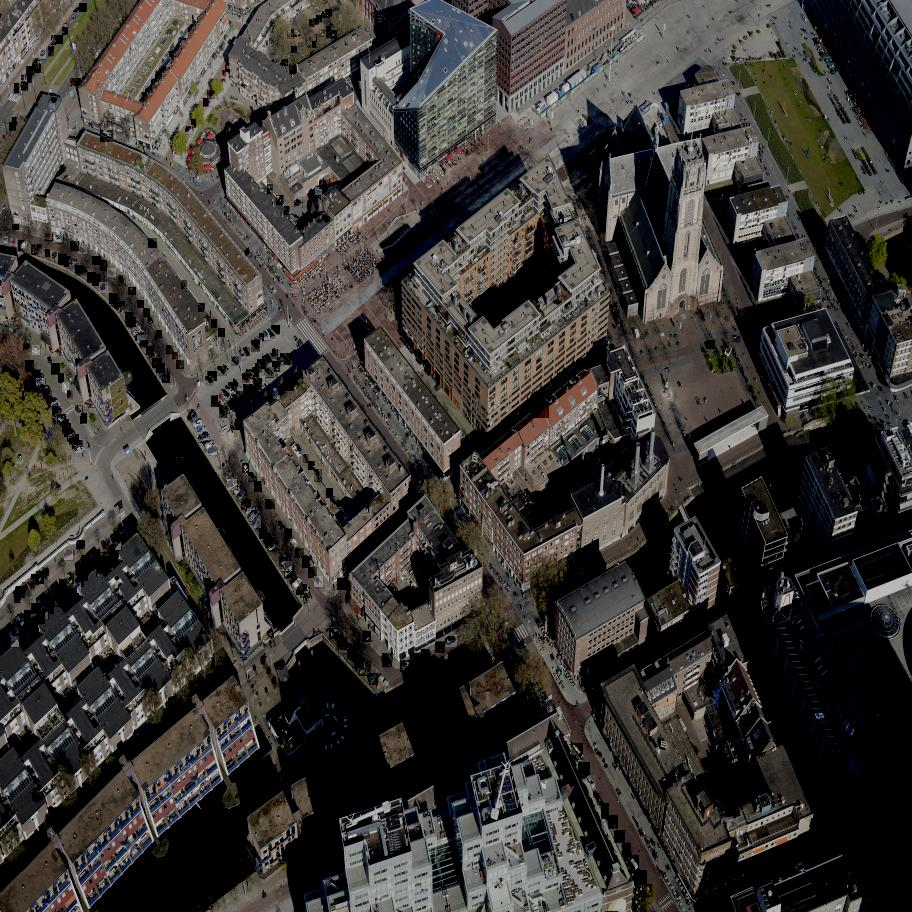large-vehicle: (530, 392, 551, 418)
small-vehicle: (569, 743, 584, 761), (318, 175, 336, 190), (809, 818, 821, 837), (358, 661, 373, 676), (628, 856, 642, 872), (714, 798, 728, 813), (57, 592, 71, 606), (336, 637, 350, 651), (634, 871, 648, 885), (99, 130, 114, 143), (578, 763, 591, 778), (708, 783, 721, 798), (22, 624, 36, 637), (410, 654, 424, 667), (586, 776, 598, 791), (299, 587, 312, 600), (337, 578, 350, 591), (235, 489, 248, 502), (251, 516, 264, 529), (292, 577, 304, 591), (346, 648, 360, 660), (445, 635, 459, 647), (381, 654, 393, 668), (822, 674, 836, 686), (834, 702, 848, 714), (720, 771, 729, 789), (601, 803, 611, 819), (27, 620, 39, 633), (4, 626, 16, 639), (17, 614, 29, 627), (354, 658, 367, 670), (284, 566, 296, 579), (128, 319, 140, 332), (186, 409, 198, 422), (608, 816, 619, 830), (197, 433, 211, 444), (81, 556, 93, 568), (280, 354, 292, 366), (241, 499, 253, 511), (281, 561, 293, 573), (401, 660, 413, 672), (614, 831, 626, 843), (435, 641, 447, 653), (770, 871, 782, 883), (203, 440, 215, 452), (220, 389, 232, 401), (158, 368, 170, 380), (18, 629, 29, 642), (329, 498, 342, 509), (593, 792, 604, 805), (642, 884, 653, 897), (622, 844, 632, 858), (205, 446, 219, 456), (52, 406, 63, 418), (94, 562, 105, 574), (75, 445, 87, 456), (69, 435, 81, 446), (243, 384, 254, 396), (296, 584, 308, 595), (546, 484, 558, 495), (343, 643, 354, 655), (453, 488, 465, 499), (265, 499, 276, 511), (362, 632, 373, 644), (109, 293, 120, 305), (189, 415, 200, 427), (210, 396, 222, 407), (253, 378, 263, 391), (227, 480, 240, 490), (329, 629, 342, 639), (369, 673, 379, 686), (892, 723, 905, 733), (248, 512, 261, 522), (262, 535, 275, 545), (34, 373, 45, 384), (76, 540, 87, 551), (67, 431, 78, 442), (50, 364, 61, 375), (31, 603, 42, 614), (21, 241, 32, 252), (75, 265, 86, 276), (54, 235, 65, 246), (264, 368, 275, 379), (314, 577, 325, 588), (233, 485, 244, 496), (224, 385, 235, 396), (413, 476, 424, 487), (25, 360, 35, 372), (31, 369, 43, 379), (35, 378, 47, 388), (50, 402, 62, 412), (64, 551, 76, 561), (11, 637, 21, 649), (92, 275, 102, 287), (99, 282, 109, 294), (271, 362, 283, 372), (302, 557, 312, 569), (554, 478, 566, 488), (223, 402, 233, 414), (293, 198, 305, 208), (245, 508, 257, 518), (126, 318, 138, 328), (256, 523, 268, 533), (563, 470, 576, 479), (847, 723, 856, 736), (13, 619, 21, 633), (75, 406, 85, 417), (32, 345, 43, 355), (100, 542, 110, 553), (88, 554, 98, 565), (72, 582, 82, 593), (133, 326, 143, 337), (30, 574, 40, 585), (16, 587, 26, 598), (49, 588, 59, 599), (62, 424, 72, 435), (58, 254, 68, 265), (88, 273, 98, 284), (254, 337, 264, 348), (251, 341, 261, 352), (257, 360, 268, 370), (308, 567, 318, 578), (288, 572, 298, 583), (352, 653, 362, 664), (268, 543, 279, 553), (421, 650, 432, 660), (268, 284, 279, 294), (119, 306, 130, 316), (197, 429, 208, 439), (217, 366, 227, 377), (208, 372, 218, 383), (259, 528, 269, 539), (147, 238, 158, 248), (155, 363, 166, 373), (59, 420, 71, 429), (72, 441, 84, 450), (89, 565, 98, 577), (27, 579, 36, 591), (41, 594, 50, 606), (37, 612, 46, 624), (262, 356, 271, 368), (134, 332, 146, 341), (137, 336, 149, 345), (192, 420, 204, 429), (194, 424, 206, 433), (219, 406, 228, 418), (151, 359, 163, 368), (37, 571, 45, 584), (112, 545, 120, 558), (58, 415, 68, 425), (70, 242, 80, 252), (257, 376, 267, 386), (242, 373, 252, 383), (228, 382, 238, 392), (290, 375, 300, 385), (538, 511, 548, 521), (278, 520, 288, 530), (205, 376, 215, 386), (162, 374, 172, 384), (32, 58, 41, 69), (59, 580, 68, 591), (93, 549, 102, 560), (46, 604, 55, 615), (67, 573, 76, 584), (64, 257, 73, 268), (100, 260, 109, 271), (91, 256, 102, 265), (266, 353, 275, 364), (279, 558, 290, 567), (248, 472, 257, 483), (115, 301, 126, 310), (125, 313, 134, 324), (795, 863, 806, 872), (705, 340, 716, 349), (118, 275, 127, 286), (146, 347, 157, 356), (287, 379, 295, 391), (65, 589, 73, 601), (55, 595, 63, 607), (285, 529, 293, 541), (26, 66, 35, 76), (42, 386, 52, 395), (48, 399, 58, 408), (164, 57, 173, 67), (69, 260, 78, 270), (79, 268, 89, 277), (231, 357, 241, 366), (246, 370, 255, 380), (296, 549, 305, 559), (242, 464, 251, 474), (254, 482, 263, 492), (584, 452, 593, 462), (112, 299, 122, 308), (290, 213, 300, 222), (186, 126, 195, 136), (176, 360, 185, 370), (198, 303, 207, 313), (42, 567, 50, 578), (273, 389, 281, 400), (76, 565, 84, 576), (42, 609, 50, 620), (24, 611, 32, 622), (233, 379, 241, 390), (237, 391, 245, 402), (230, 423, 238, 434), (296, 444, 304, 455), (265, 541, 276, 549), (14, 591, 21, 603), (314, 470, 321, 482), (271, 326, 280, 335), (267, 330, 276, 339), (276, 196, 285, 205), (8, 123, 17, 132), (297, 221, 306, 230), (166, 346, 175, 355), (217, 329, 226, 338), (159, 252, 168, 261), (34, 64, 42, 74), (39, 50, 47, 60), (62, 383, 70, 393), (43, 391, 53, 399), (81, 572, 89, 582), (99, 558, 107, 568), (36, 245, 44, 255), (51, 251, 59, 261), (73, 263, 81, 273), (263, 331, 271, 341), (255, 363, 263, 373), (252, 368, 260, 378), (284, 206, 292, 216), (308, 461, 316, 471), (326, 488, 334, 498), (80, 3, 88, 13), (816, 713, 826, 721), (783, 869, 793, 877), (748, 244, 756, 254), (147, 315, 155, 325), (218, 394, 226, 404), (81, 413, 88, 424), (22, 583, 29, 594), (63, 430, 74, 437), (32, 244, 39, 255), (239, 350, 246, 361), (229, 399, 236, 410), (408, 481, 415, 492), (21, 82, 29, 91), (70, 78, 78, 87), (72, 5, 80, 14), (23, 344, 32, 352), (108, 269, 117, 277), (78, 247, 87, 255), (287, 31, 295, 40), (277, 358, 285, 367), (274, 56, 283, 64), (344, 515, 352, 524), (314, 187, 323, 195), (354, 81, 363, 89), (208, 90, 216, 99), (222, 364, 231, 372), (211, 319, 219, 328), (115, 542, 123, 551), (128, 287, 136, 296), (137, 300, 145, 309), (48, 47, 55, 57), (0, 225, 10, 232), (11, 238, 18, 248), (272, 350, 279, 360), (267, 185, 274, 195), (139, 341, 149, 348), (233, 395, 239, 406), (297, 372, 303, 383), (236, 419, 242, 430), (63, 19, 71, 27), (56, 36, 64, 44), (39, 384, 47, 392), (155, 72, 163, 80), (46, 233, 54, 241), (322, 11, 330, 19), (329, 30, 337, 38), (159, 67, 167, 75), (151, 80, 159, 88), (145, 87, 153, 95), (143, 309, 151, 317), (106, 539, 113, 548), (278, 386, 285, 395), (243, 347, 250, 356), (303, 454, 310, 463), (191, 120, 198, 129), (183, 29, 190, 38), (156, 330, 163, 339), (48, 356, 54, 366), (58, 373, 64, 383), (78, 578, 84, 588), (181, 280, 187, 290), (391, 573, 397, 583), (805, 785, 810, 797), (62, 27, 69, 35), (75, 79, 82, 87), (71, 16, 79, 23), (309, 19, 316, 27), (319, 30, 327, 37), (346, 574, 354, 581), (739, 248, 746, 256), (172, 353, 179, 361), (28, 74, 34, 83), (21, 74, 27, 83), (14, 84, 20, 93), (282, 383, 288, 392), (46, 397, 53, 404), (325, 10, 332, 17), (294, 29, 301, 36), (313, 18, 320, 25), (326, 32, 333, 39), (291, 47, 298, 54), (282, 60, 289, 67), (204, 311, 211, 318), (169, 52, 175, 60), (317, 15, 323, 23), (259, 334, 265, 342), (372, 41, 378, 49), (179, 38, 185, 46), (46, 249, 51, 258), (12, 224, 19, 230), (291, 30, 297, 37), (312, 34, 317, 42), (68, 390, 72, 399), (19, 241, 23, 250), (327, 26, 332, 33), (298, 43, 303, 50), (736, 249, 741, 256), (733, 336, 739, 341), (143, 92, 147, 99), (226, 65, 230, 72), (204, 99, 208, 106), (13, 117, 16, 126), (52, 36, 55, 44), (5, 237, 8, 244), (223, 70, 226, 76), (313, 43, 315, 48)
